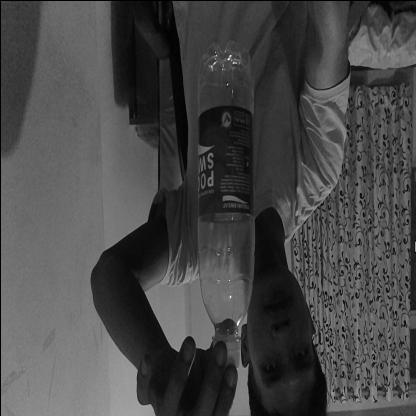plastic_bottles: (194, 42, 254, 368)
